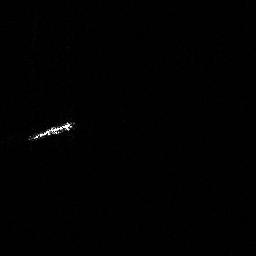ship: (22, 116, 78, 144)
